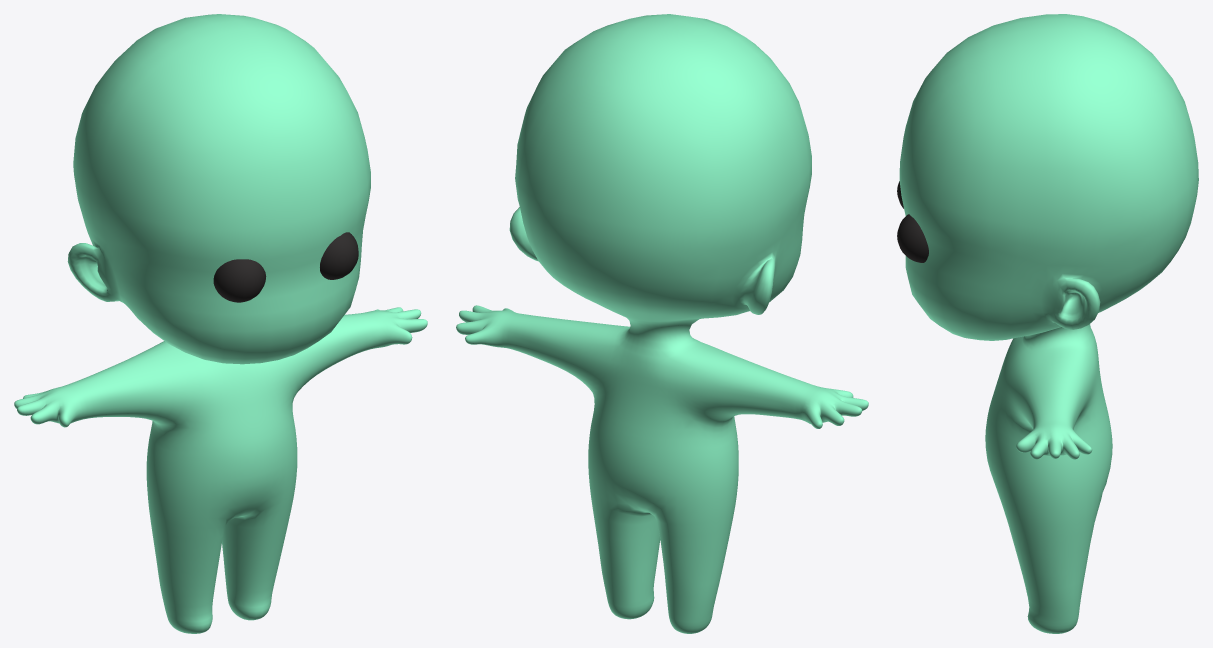
File: ZombiePH.fbx
3 views of the same model, side by side, from view 1: azimuth 30°, elevation 25°; view 2: azimuth 150°, elevation 25°; view 3: azimuth 270°, elevation 25° (orthographic).
Parts seen in each view (by area): view 1: ZombiePH; view 2: ZombiePH; view 3: ZombiePH.
Part boxes in pixels (x1,y1,x2,y2): ZombiePH: (14, 14, 427, 633); ZombiePH: (456, 14, 868, 633); ZombiePH: (897, 14, 1198, 633).
Bounding box in the file's own units: 304 × 427 × 199.
